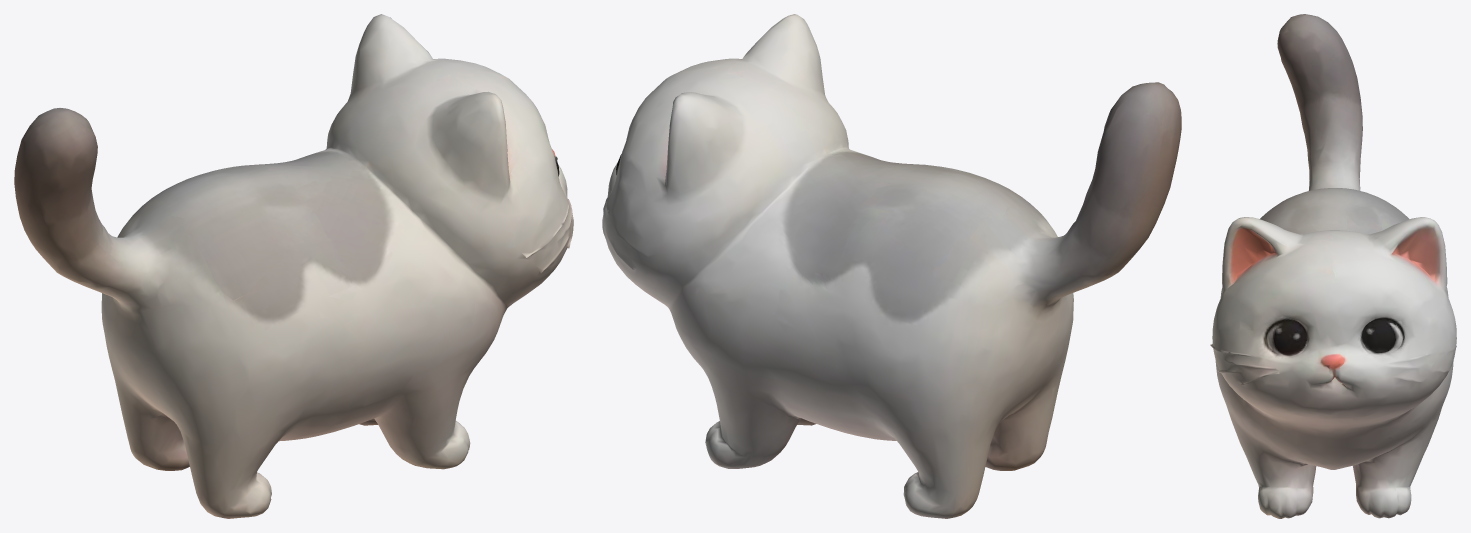
File: pet-cat.glb
3 renders of one model, left to right at view 1: azimuth 30°, elevation 25°; view 2: azimuth 150°, elevation 25°; view 3: azimuth 270°, elevation 25°, orthographic. The views are drawn at different scales.
Parts seen in each view (by area): view 1: tripo_node_6e41f89c-c345-4c2a-ab7b-86b8e540aef2; view 2: tripo_node_6e41f89c-c345-4c2a-ab7b-86b8e540aef2; view 3: tripo_node_6e41f89c-c345-4c2a-ab7b-86b8e540aef2.
Part boxes in pixels (<box>): tripo_node_6e41f89c-c345-4c2a-ab7b-86b8e540aef2: <box>14,14,573,518</box>; tripo_node_6e41f89c-c345-4c2a-ab7b-86b8e540aef2: <box>602,14,1181,518</box>; tripo_node_6e41f89c-c345-4c2a-ab7b-86b8e540aef2: <box>1210,14,1456,518</box>.
Bounding box in the file's own units: 1 × 0.7596 × 0.4834.
1 material, 1 textured.
